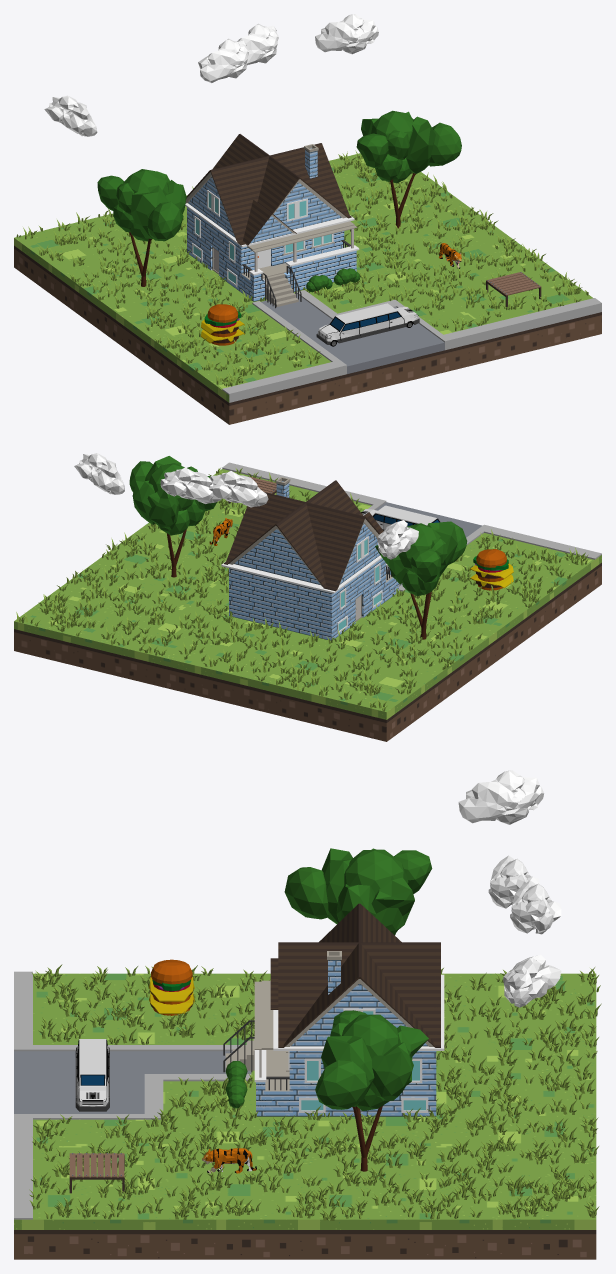
The picture shows the model from 3 angles, top to bottom: view 1: azimuth 30°, elevation 25°; view 2: azimuth 150°, elevation 25°; view 3: azimuth 270°, elevation 25°; orthographic projection. The views are drawn at different scales.
Parts seen in each view (by area): view 1: Cube.006, Cube.547, Circle.012_Grass_0.192, Cube.007, tree, tree.001, VEHICLES_LIMOUSINE, OBJRANDOM_HAMBURGER, Cube.009; view 2: Cube.006, Cube.547, Circle.012_Grass_0.192, Cube.007, tree.001, tree, OBJRANDOM_HAMBURGER, VEHICLES_LIMOUSINE; view 3: Cube.006, Circle.012_Grass_0.192, Cube.547, tree, Cube.007, tree.001, VEHICLES_LIMOUSINE, OBJRANDOM_HAMBURGER, Cube.009, ANIMAL_TIGRE.
Boxes of the visible parts, x1=… form: Cube.006: x1=14, y1=153, x2=601, y2=424; Cube.547: x1=185, y1=134, x2=359, y2=308; Circle.012_Grass_0.192: x1=16, y1=150, x2=588, y2=386; Cube.007: x1=44, y1=14, x2=378, y2=136; tree: x1=356, y1=110, x2=461, y2=228; tree.001: x1=97, y1=169, x2=186, y2=286; VEHICLES_LIMOUSINE: x1=316, y1=303, x2=419, y2=346; OBJRANDOM_HAMBURGER: x1=201, y1=304, x2=244, y2=345; Cube.009: x1=486, y1=272, x2=541, y2=306; Cube.006: x1=14, y1=462, x2=601, y2=741; Cube.547: x1=221, y1=477, x2=398, y2=640; Circle.012_Grass_0.192: x1=16, y1=468, x2=588, y2=711; Cube.007: x1=74, y1=453, x2=418, y2=559; tree.001: x1=375, y1=521, x2=467, y2=639; tree: x1=129, y1=456, x2=216, y2=577; OBJRANDOM_HAMBURGER: x1=469, y1=549, x2=513, y2=590; VEHICLES_LIMOUSINE: x1=361, y1=505, x2=439, y2=530; Cube.006: x1=14, y1=971, x2=596, y2=1259; Circle.012_Grass_0.192: x1=29, y1=964, x2=601, y2=1220; Cube.547: x1=223, y1=903, x2=444, y2=1116; tree: x1=315, y1=1010, x2=428, y2=1171; Cube.007: x1=458, y1=770, x2=561, y2=1007; tree.001: x1=284, y1=848, x2=432, y2=935; VEHICLES_LIMOUSINE: x1=75, y1=1039, x2=109, y2=1111; OBJRANDOM_HAMBURGER: x1=149, y1=959, x2=194, y2=1015; Cube.009: x1=69, y1=1153, x2=124, y2=1193; ANIMAL_TIGRE: x1=202, y1=1148, x2=256, y2=1173.
Bounding box in the file's own units: 4071 × 2126 × 4040.
38 materials, 5 textured.
